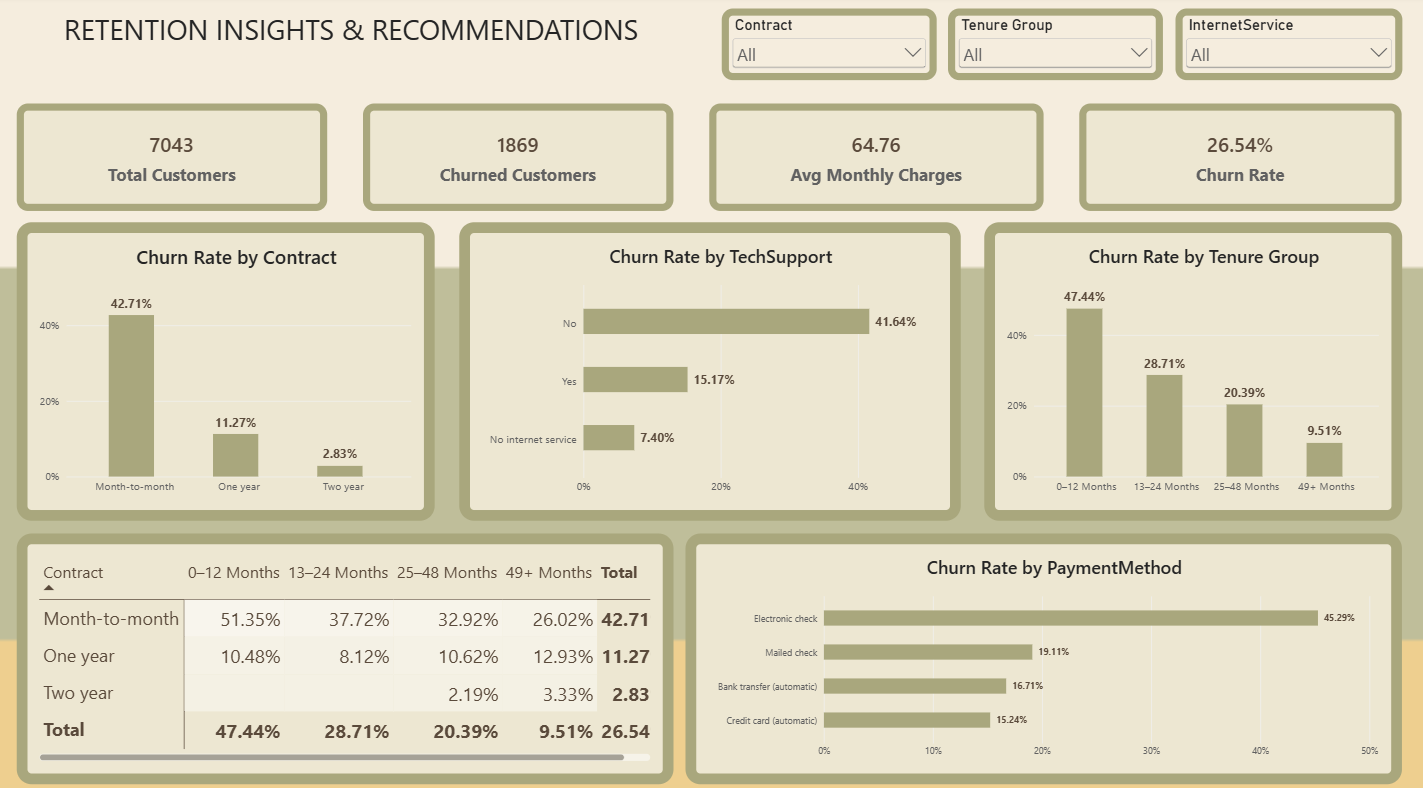

What the dashboard file says about the page in this screenshot:
{"tool":"powerbi","page":{"name":"Retention Insights & Recommendations.","canvas":[1920,1080],"ordinal":5},"visuals":[{"type":"textbox","box":[0,0,960,112],"z":0},{"type":"slicer","fields":{"Values":["CustomerChurn.Contract"]},"box":[976,16,288,96],"z":1},{"type":"slicer","fields":{"Values":["CustomerChurn.Tenure Group"]},"box":[1280,16,288,96],"z":2},{"type":"slicer","fields":{"Values":["CustomerChurn.InternetService"]},"box":[1584,16,304,96],"z":3},{"type":"card","fields":{"Values":["Measure.Total Customers"]},"box":[32,144,416,144],"z":4},{"type":"card","fields":{"Values":["Measure.Churned Customers"]},"box":[496,144,416,144],"z":5},{"type":"card","fields":{"Values":["Measure.Churn Rate"]},"box":[1456,144,432,144],"z":6},{"type":"card","fields":{"Values":["Measure.Avg Monthly Charges"]},"box":[960,144,448,144],"z":7},{"type":"clusteredColumnChart","title":"Churn Rate by Contract","fields":{"Category":["CustomerChurn.Contract"],"Y":["Measure.Churn Rate"]},"box":[32,304,560,400],"z":8},{"type":"clusteredColumnChart","title":"Churn Rate by Tenure Group","fields":{"Category":["CustomerChurn.Tenure Group"],"Y":["Measure.Churn Rate"]},"box":[1328,304,560,400],"z":9},{"type":"clusteredBarChart","fields":{"Category":["CustomerChurn.TechSupport"],"Y":["Measure.Churn Rate"]},"box":[624,304,672,400],"z":10},{"type":"pivotTable","fields":{"Columns":["CustomerChurn.Tenure Group"],"Rows":["CustomerChurn.Contract"],"Values":["Measure.Churn Rate"]},"box":[32,720,880,336],"z":11},{"type":"clusteredBarChart","fields":{"Category":["CustomerChurn.PaymentMethod"],"Y":["Measure.Churn Rate"]},"box":[928,720,960,336],"z":12}]}

Visuals, with their boxes in screenshot pixels (x1, y1, x2, y2), scaled from the page's 1920x1080 canvas onto the 1423x788 screenshot:
textbox: l=0, t=0, r=712, b=82
slicer - CustomerChurn.Contract: l=723, t=12, r=937, b=82
slicer - CustomerChurn.Tenure Group: l=949, t=12, r=1162, b=82
slicer - CustomerChurn.InternetService: l=1174, t=12, r=1399, b=82
card - Measure.Total Customers: l=24, t=105, r=332, b=210
card - Measure.Churned Customers: l=368, t=105, r=676, b=210
card - Measure.Churn Rate: l=1079, t=105, r=1399, b=210
card - Measure.Avg Monthly Charges: l=712, t=105, r=1044, b=210
"Churn Rate by Contract" clusteredColumnChart: l=24, t=222, r=439, b=514
"Churn Rate by Tenure Group" clusteredColumnChart: l=984, t=222, r=1399, b=514
clusteredBarChart - CustomerChurn.TechSupport x Measure.Churn Rate: l=462, t=222, r=961, b=514
pivotTable - CustomerChurn.Tenure Group x CustomerChurn.Contract: l=24, t=525, r=676, b=770
clusteredBarChart - CustomerChurn.PaymentMethod x Measure.Churn Rate: l=688, t=525, r=1399, b=770
